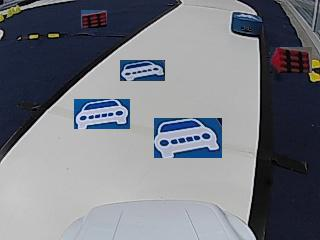prop: (231, 12, 262, 36)
